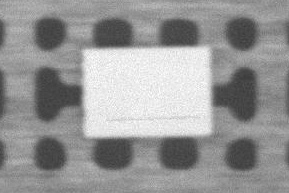DIE_CRACK: (160, 78, 289, 80)
